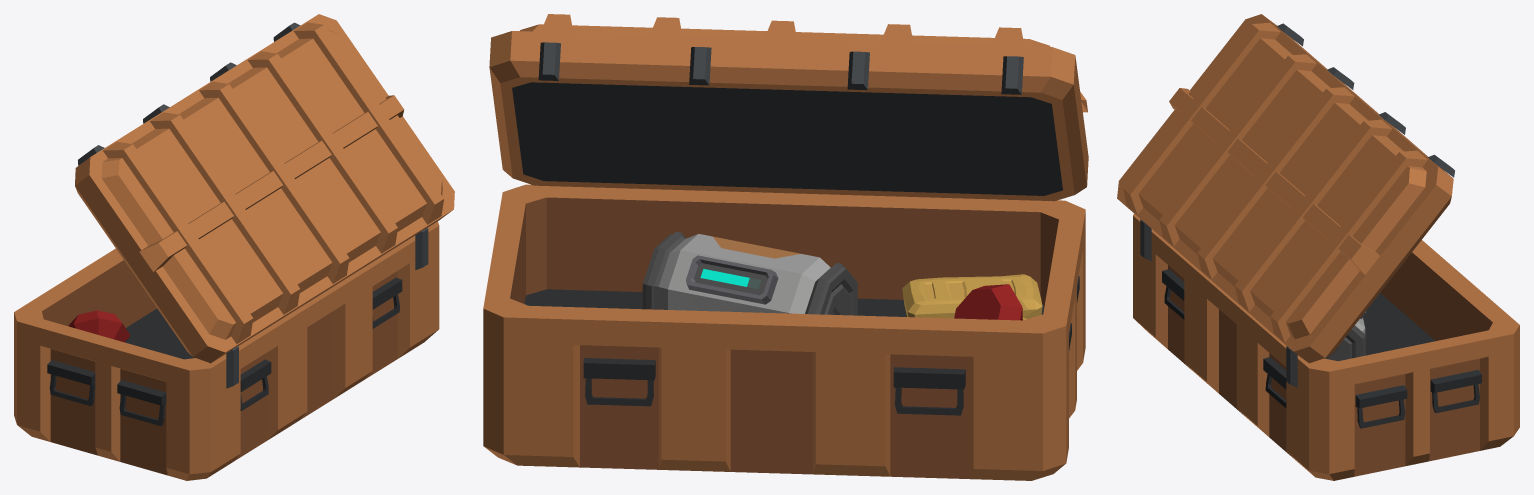
The model's file is MetaChestSupplyRun.fbx.
3 views of the same model, side by side, from view 1: azimuth 30°, elevation 25°; view 2: azimuth 150°, elevation 25°; view 3: azimuth 270°, elevation 25° (orthographic). The views are drawn at different scales.
Parts seen in each view (by area): view 1: SM_Prop_Crate_Plastic_Lid_01, MetaChestSupplyRun, SM_Item_Gem_02; view 2: MetaChestSupplyRun, SM_Prop_Crate_Plastic_Lid_01, SM_Prop_Cylinder_02, SM_Prop_Gold_Ingot_01 (43), SM_Item_Gem_02; view 3: SM_Prop_Crate_Plastic_Lid_01, MetaChestSupplyRun, SM_Prop_Cylinder_02.
Boxes of the visible parts, x1,y1,x2,y2 form: SM_Prop_Crate_Plastic_Lid_01: (75, 14, 454, 363); MetaChestSupplyRun: (14, 221, 439, 480); SM_Item_Gem_02: (68, 310, 130, 342); MetaChestSupplyRun: (483, 184, 1085, 480); SM_Prop_Crate_Plastic_Lid_01: (489, 14, 1088, 201); SM_Prop_Cylinder_02: (642, 231, 857, 315); SM_Prop_Gold_Ingot_01 (43): (902, 274, 1042, 318); SM_Item_Gem_02: (954, 284, 1022, 320); SM_Prop_Crate_Plastic_Lid_01: (1117, 14, 1454, 363); MetaChestSupplyRun: (1133, 213, 1519, 480); SM_Prop_Cylinder_02: (1324, 311, 1366, 361).
Size of the model in its own units: 1.62 by 1.07 by 1.33.
4 materials, 4 textured.
